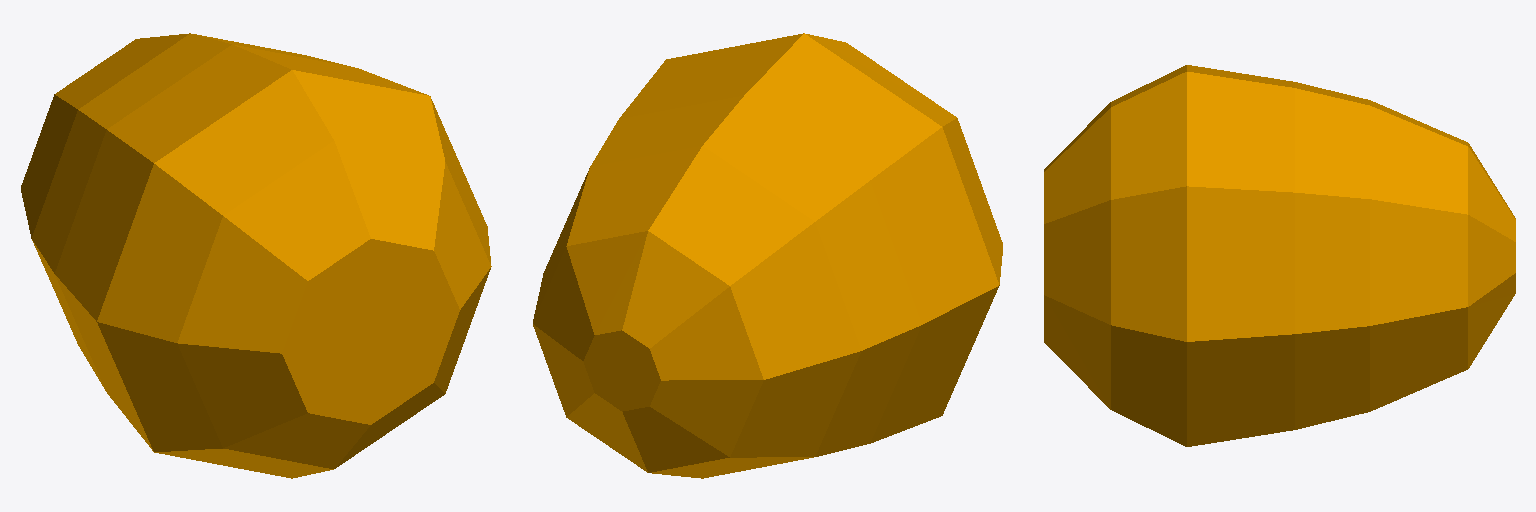
robot.urdf — olive_pit:
<?xml version="1.0"?>
<robot name="olive_pit">
  <link name="olive_pit">
    <inertial>
        <origin rpy="0 0 0" xyz="0 0 0"/>
        <mass value="0.01"/>
        <inertia ixx="4.4e-5" ixy="0" ixz="0" iyy="0" iyz="0" izz="4.4e-5"/>
    </inertial>
    <visual>
      <geometry>
        <mesh filename="olive_pit.obj"/>
      </geometry>
    </visual>
    <collision>
      <geometry>
        <mesh filename="olive_pit.obj"/>
      </geometry>
      <surface>
           <bounce restitution_coefficient = "0.1"/>
      </surface>
    </collision>
  </link>
</robot>

--- Render facts (derived) ---
3 views of the same robot in one strip: view 1: azimuth 30°, elevation 25°; view 2: azimuth 150°, elevation 25°; view 3: azimuth 270°, elevation 25° (orthographic).
Robot: olive_pit — 1 links, 0 joints (none); root link olive_pit; default pose: every joint at zero.
Links seen in each view (by area): view 1: olive_pit; view 2: olive_pit; view 3: olive_pit.
Boxes of the visible links, <box> form: olive_pit: <box>21,33,491,478</box>; olive_pit: <box>533,33,1002,478</box>; olive_pit: <box>1044,65,1515,446</box>.
Bounding box of the posed robot: 0.0077 × 0.0089 × 0.0077 m (x, y, z).
Meshes: 1 distinct files referenced, 1 mesh visuals loaded (1 OBJ).
